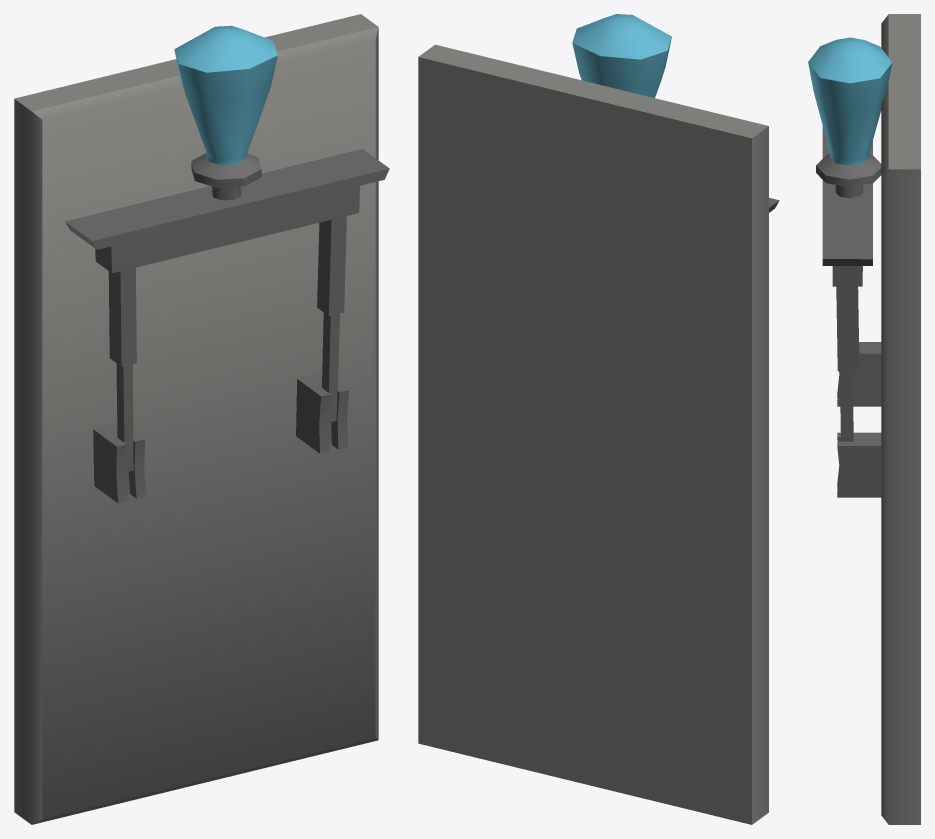
File: Lever_1.fbx
3 renders of one model, left to right at view 1: azimuth 30°, elevation 25°; view 2: azimuth 150°, elevation 25°; view 3: azimuth 270°, elevation 25°, orthographic. The views are drawn at different scales.
Parts seen in each view (by area): view 1: Lever_Board, Lever_Switch; view 2: Lever_Board, Lever_Switch; view 3: Lever_Board, Lever_Switch.
Part boxes in pixels (box(x1,y1,x2,y2)): Lever_Board: box(14, 14, 378, 824); Lever_Switch: box(65, 25, 389, 471); Lever_Board: box(418, 44, 768, 824); Lever_Switch: box(572, 14, 779, 212); Lever_Board: box(837, 14, 920, 824); Lever_Switch: box(808, 37, 892, 441).
Bounding box in the file's own units: 13.19 × 27.88 × 4.05.
1 material, 1 textured.
